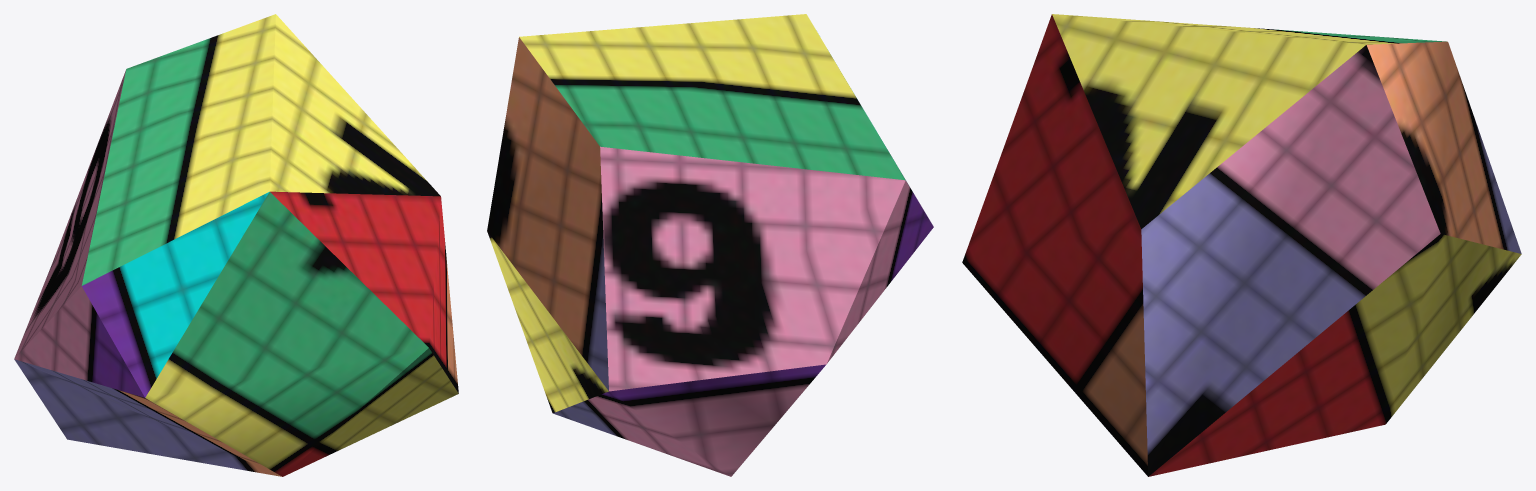
Rendered from lprock2.FBX.
The picture shows the model from 3 angles, left to right: view 1: azimuth 30°, elevation 25°; view 2: azimuth 150°, elevation 25°; view 3: azimuth 270°, elevation 25°; orthographic projection. The views are drawn at different scales.
Visible parts, largest first — view 1: rock2; view 2: rock2; view 3: rock2.
Boxes of the visible parts, x1,y1,x2,y2 form: rock2: (14,14,458,476); rock2: (487,14,933,476); rock2: (962,14,1521,476).
Size of the model in its own units: 73.5 by 70.76 by 82.86.
Materials: 1 (1 with a texture image).
